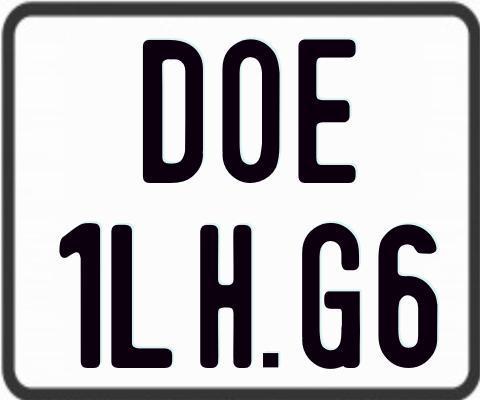0: (222, 37, 280, 186)
1: (59, 220, 106, 370)
6: (376, 221, 438, 365)
D: (141, 38, 206, 185)
E: (296, 37, 359, 185)
G: (299, 221, 358, 367)
H: (199, 225, 255, 371)
L: (110, 225, 172, 371)
